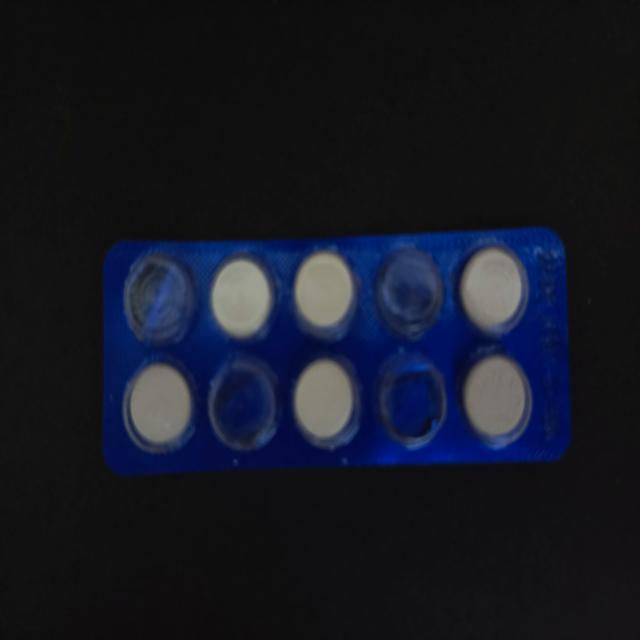defect: (203, 351, 284, 455), (120, 249, 200, 351), (372, 348, 448, 452), (373, 243, 446, 341)
